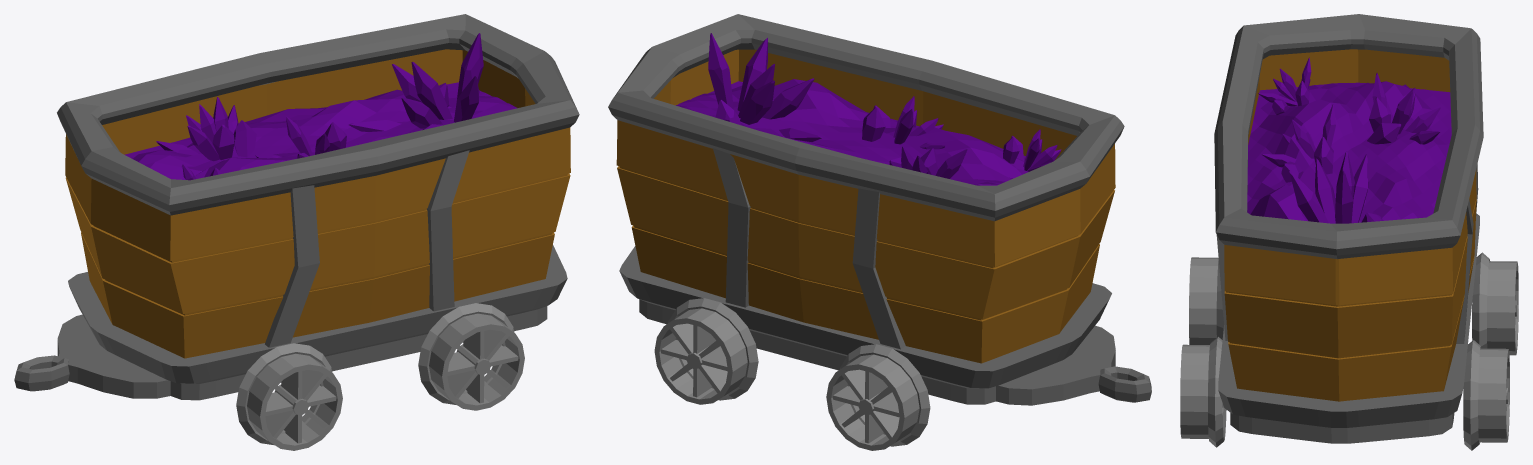
Rendered from TrapTrain.fbx.
The picture shows the model from 3 angles, left to right: view 1: azimuth 30°, elevation 25°; view 2: azimuth 150°, elevation 25°; view 3: azimuth 270°, elevation 25°; orthographic projection.
Parts seen in each view (by area): view 1: Trap_train; view 2: Trap_train; view 3: Trap_train.
Boxes of the visible parts, <box> form: Trap_train: <box>14,14,579,450</box>; Trap_train: <box>608,14,1151,450</box>; Trap_train: <box>1180,14,1518,450</box>.
Bounding box in the file's own units: 1186 × 659 × 655.
